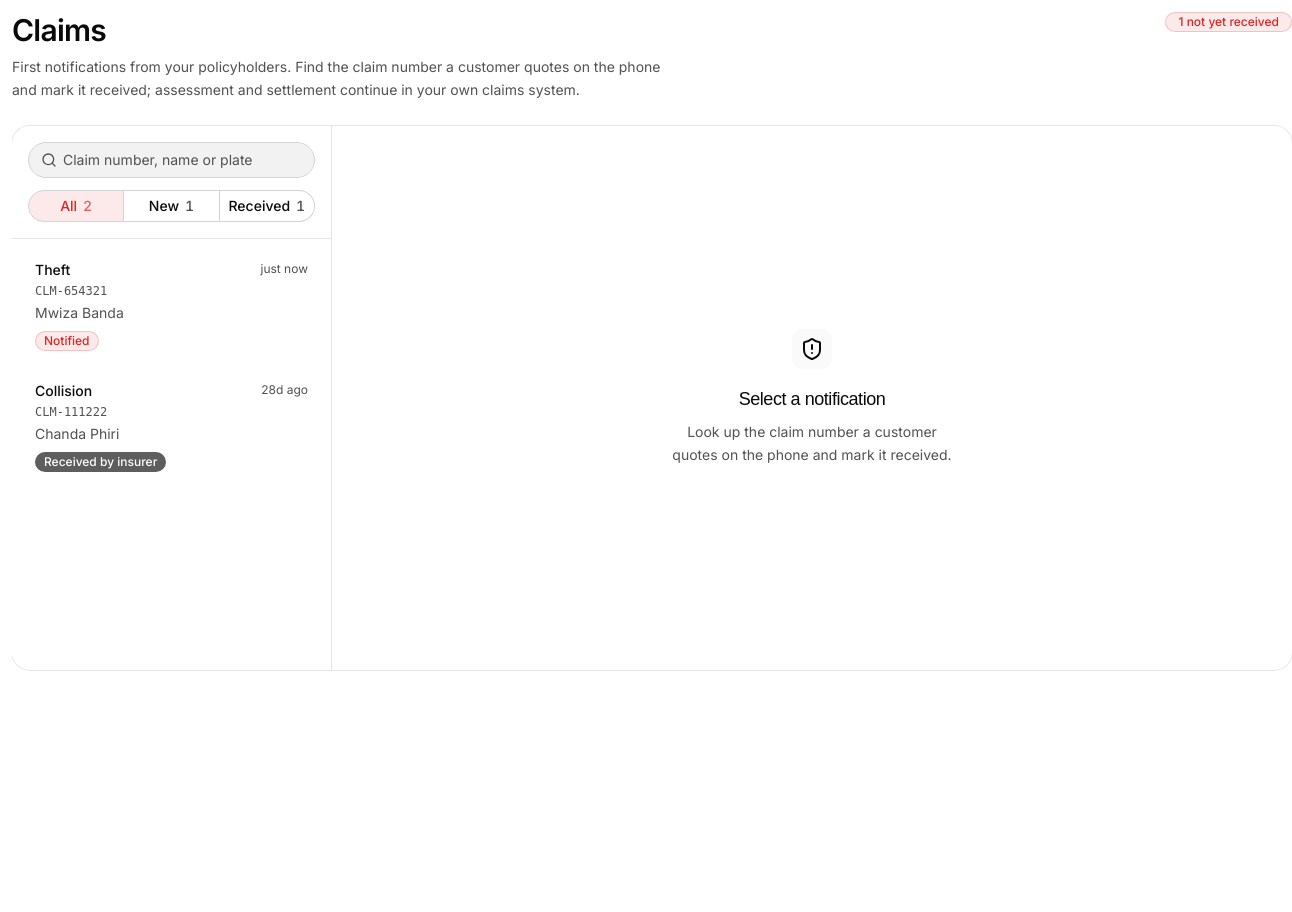
it: ClaimsTab › finds a claim by number, name or plate, and by whether it has been received
Type "654321" into the search field named "Find by claim number, name or plate". click: coordinates (186, 160)
box: 57,142 -> 314,178
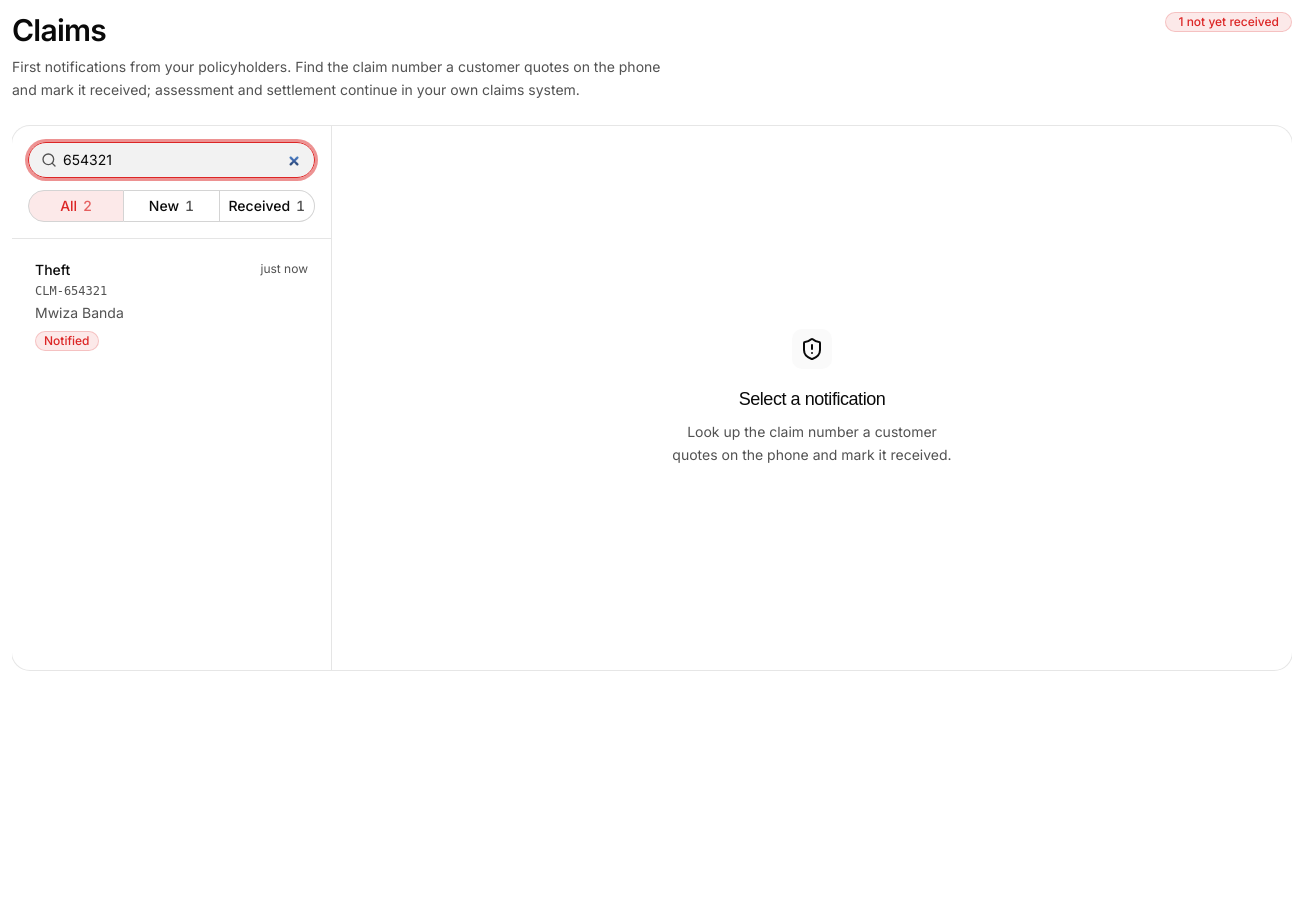
Expected: the button "Theft just now CLM-654321 Mwiza Banda Notified" is shown, 20,246 -> 323,364
Replace the text in the search field named "Find by claim number, name or plate" with "alk 9001". click: coordinates (186, 160)
box: 57,142 -> 314,178
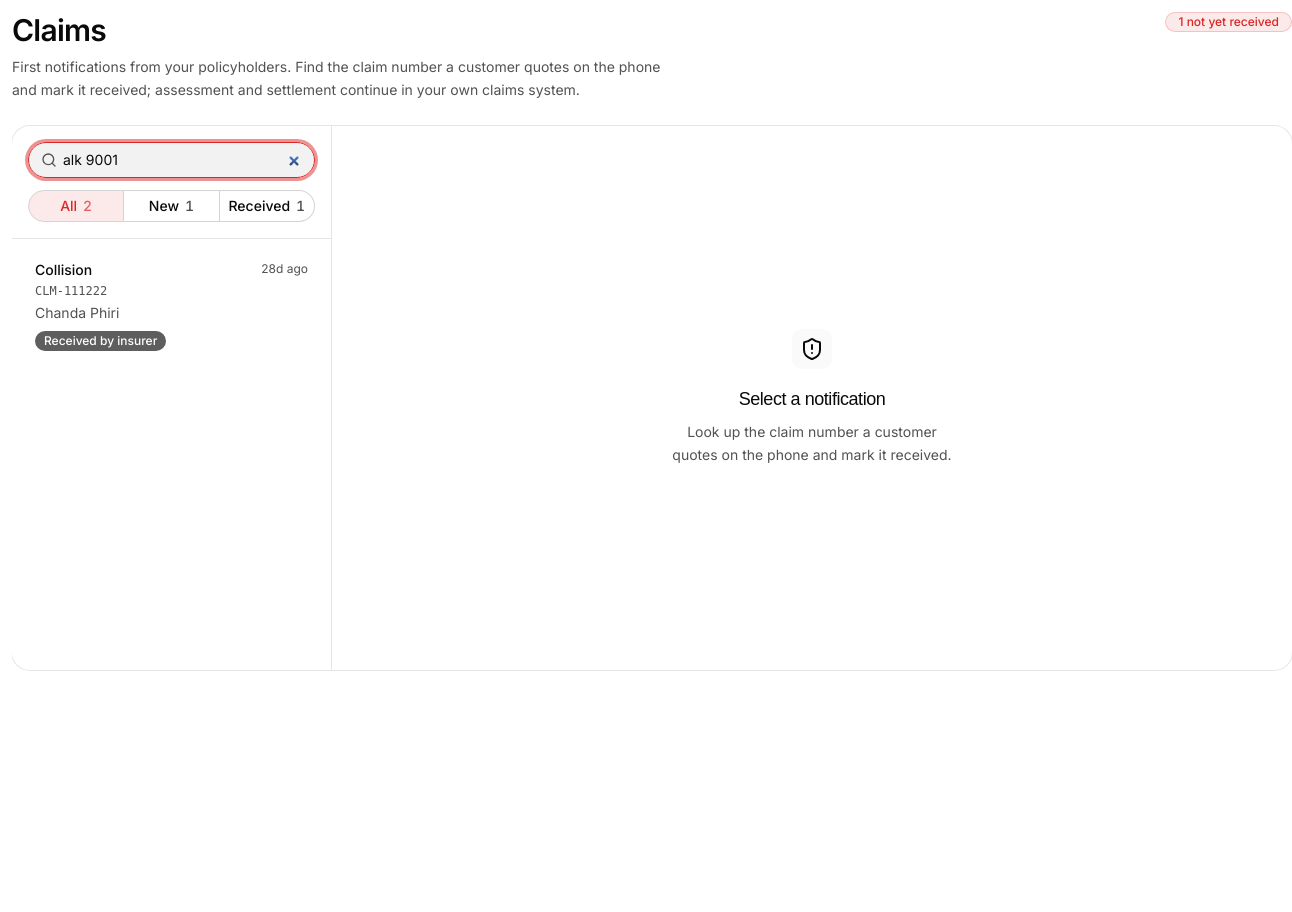
Expected: the button "CLM-111222" is shown, 20,246 -> 323,364
Replace the text in the search field named "Find by claim number, name or plate" with "nobody". click: coordinates (186, 160)
box: 57,142 -> 314,178
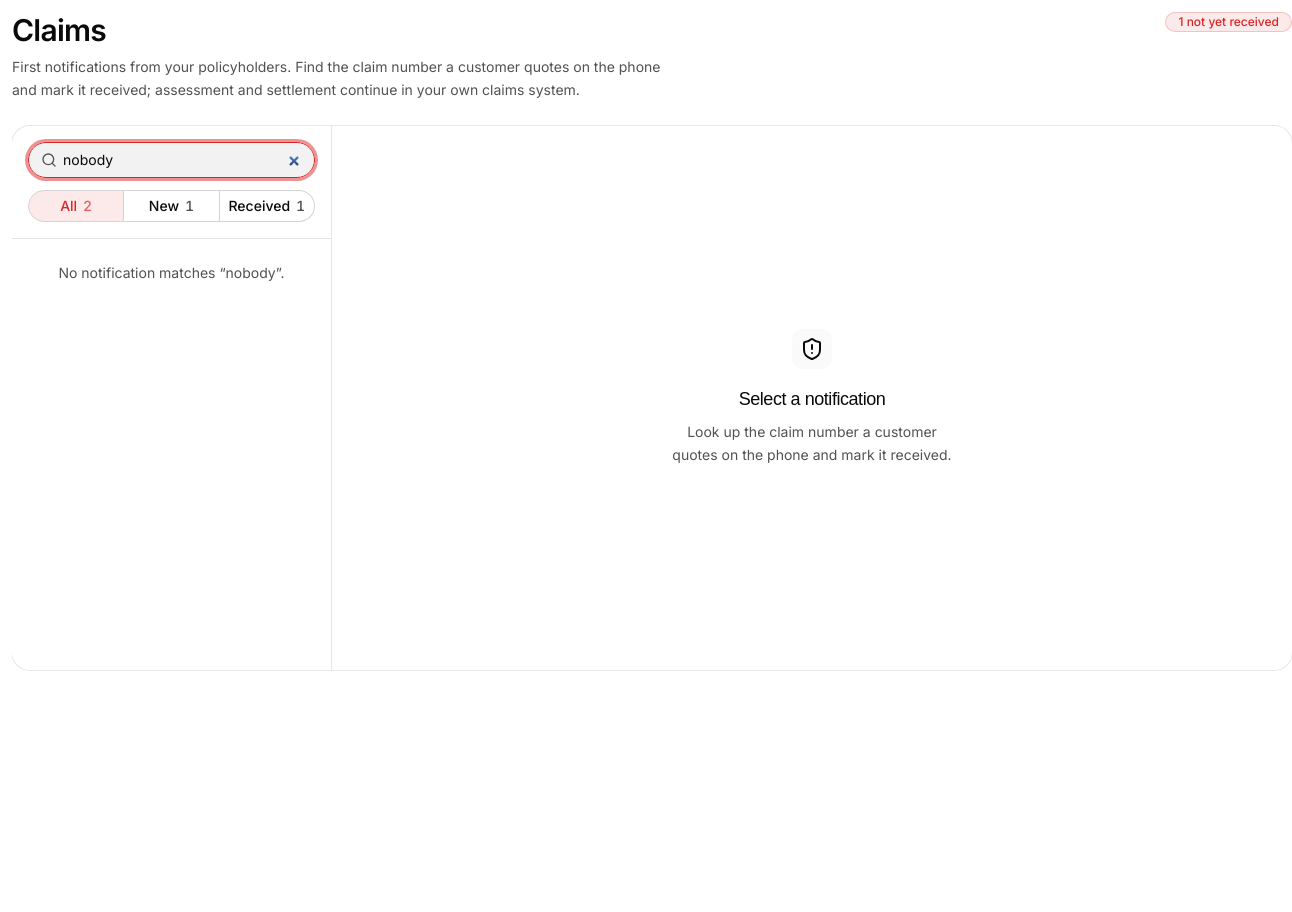
Expected: the text "No notification matches “nobody”." is shown, 58,264 -> 284,280
Clear the search field named "Find by claim number, name or plate". click: coordinates (186, 160)
box: 57,142 -> 314,178
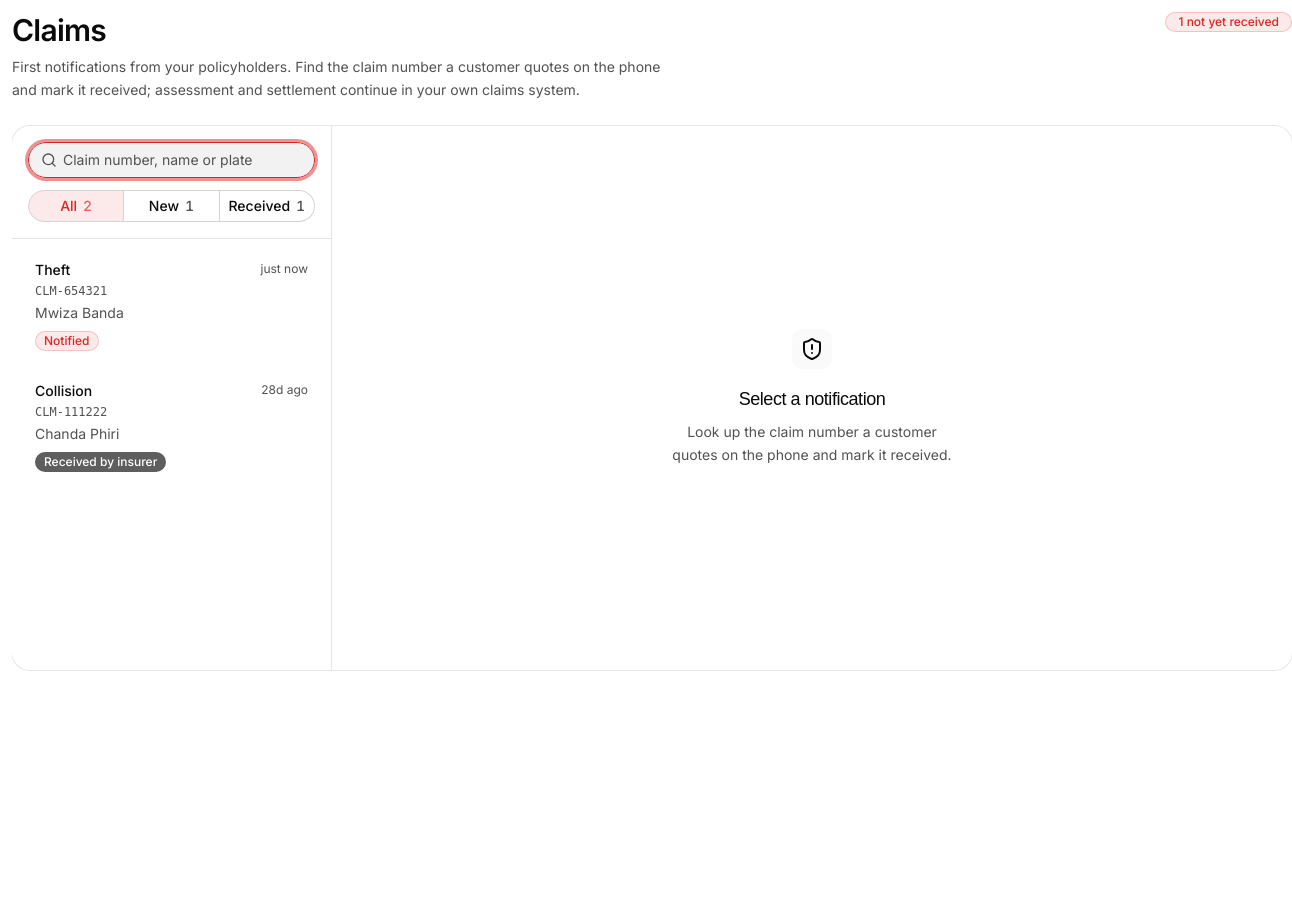
Click the radio button labelled "New 1". click: coordinates (172, 206)
box: 124,190 -> 220,222
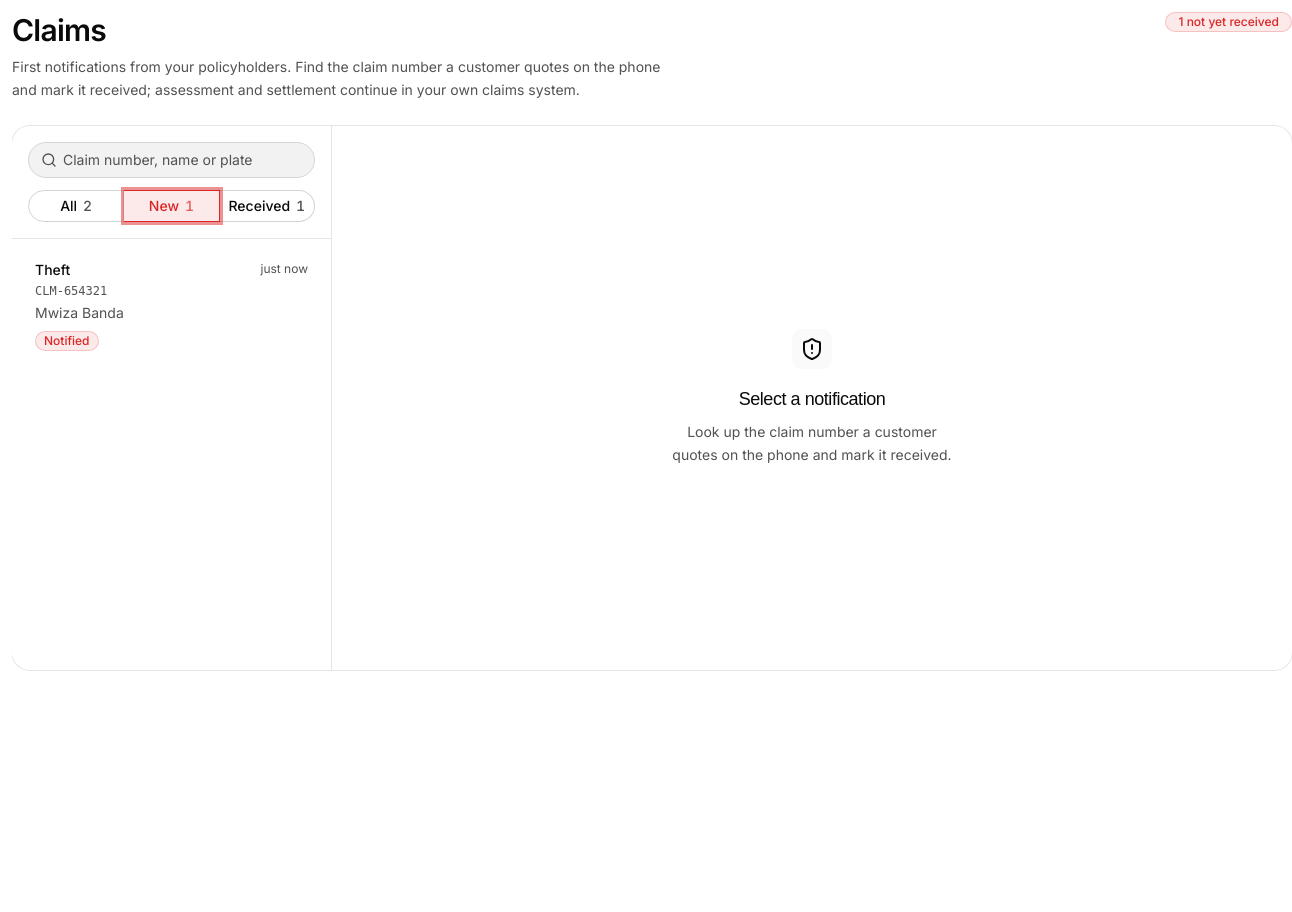
Expected: the button "Theft just now CLM-654321 Mwiza Banda Notified" is shown, 20,246 -> 323,364
Click the radio button labelled "Received 1". click: coordinates (267, 206)
box: 220,190 -> 315,222
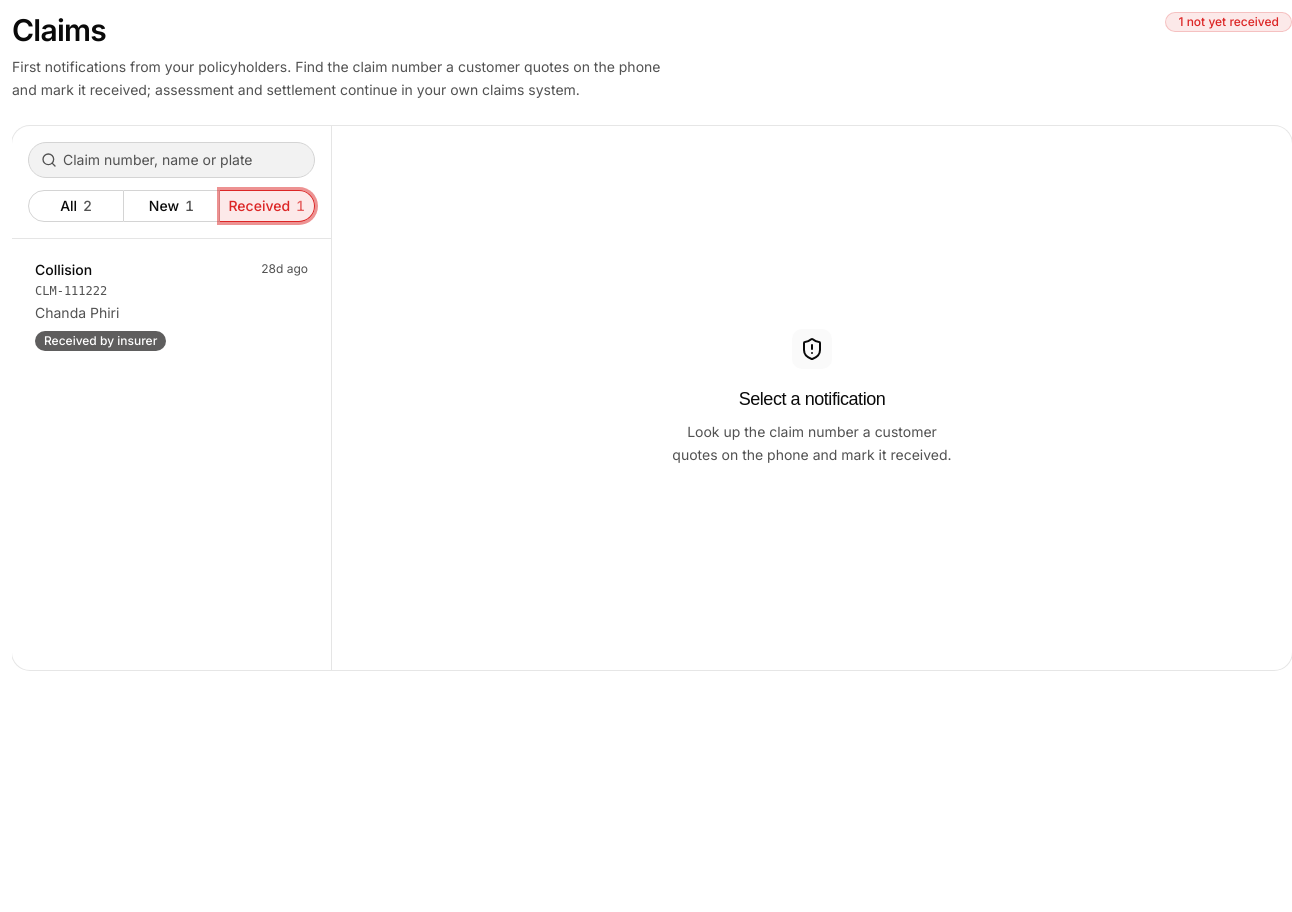
Expected: the button "CLM-111222" is shown, 20,246 -> 323,364
Expected: the button "CLM-654321" is gone
